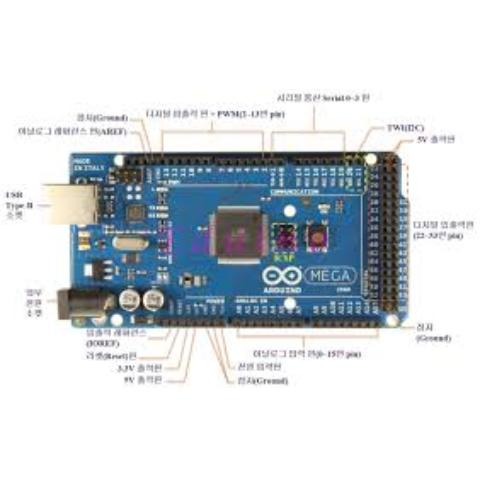Arduino-Mega: (36, 144, 422, 340)
